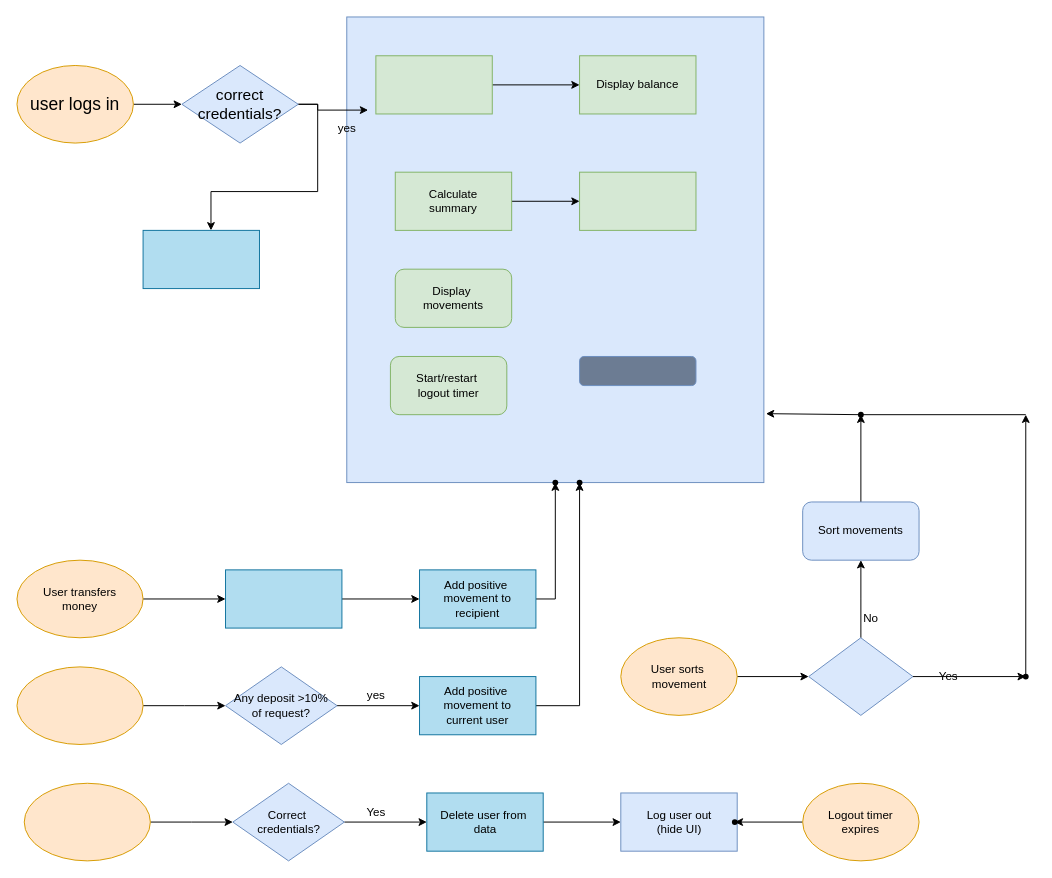
Some shapes in this 1052 by 878 pixel diagram are drawn without their labels. The centre of each missing label's shape, as x and y in pixels:
"Add negative movement to current user" goes at [283,598].
"Already sorted?" goes at [860,676].
"calculate balance" goes at [433,84].
"Display summary" goes at [637,200].
"Display UI and welcome message" goes at [200,259].
"update UI" goes at [637,371].
"User closes account" goes at [86,821].
"User request loan" goes at [79,705].
